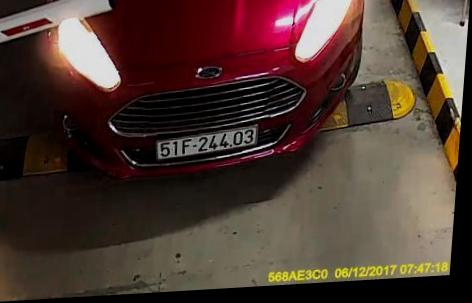License_Plate: (151, 122, 265, 161)
